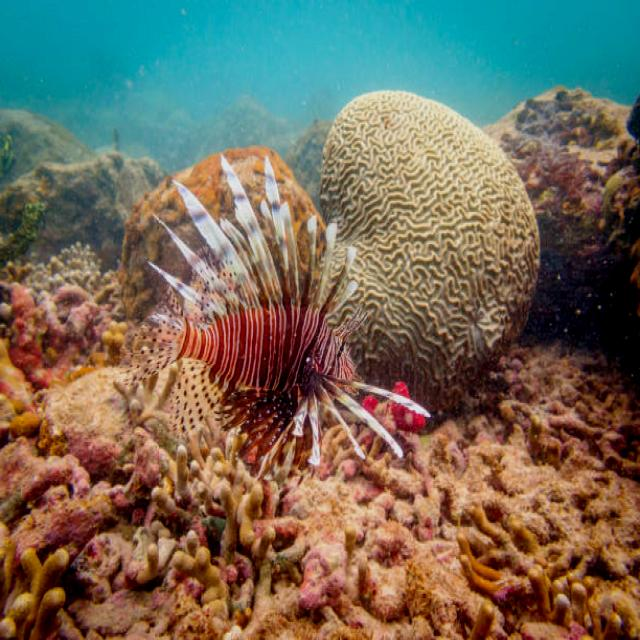Coral: (319, 89, 540, 416)
